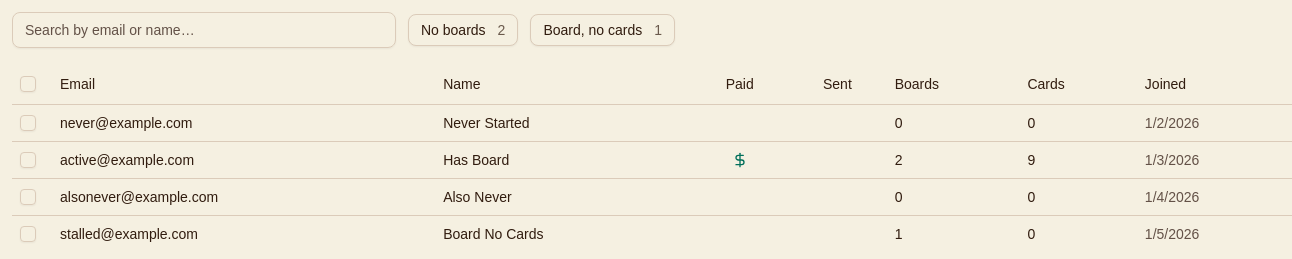
Scenario: UserSearch — no-boards filter › narrows the table to users with zero boards
The image size is (1292, 259).
Expected: the link "active@example.com" is shown, [60, 152, 194, 168]
Click the button "No boards 2" at (463, 30), box [408, 14, 518, 46]
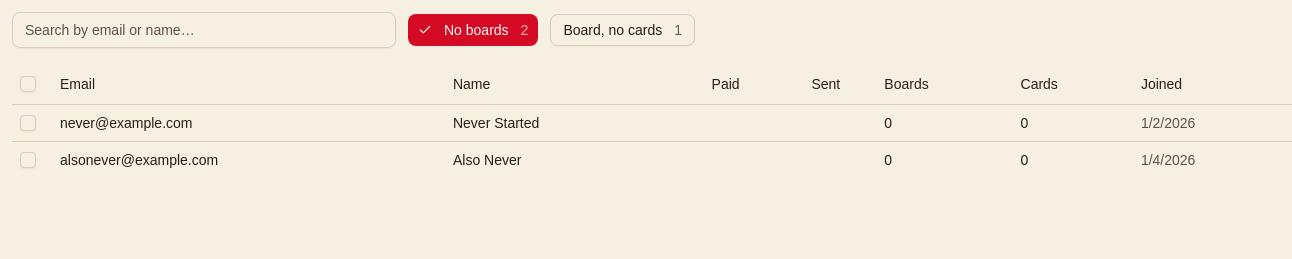
Expected: the link "never@example.com" is shown, [60, 114, 192, 130]
Result: the link "active@example.com" is gone
